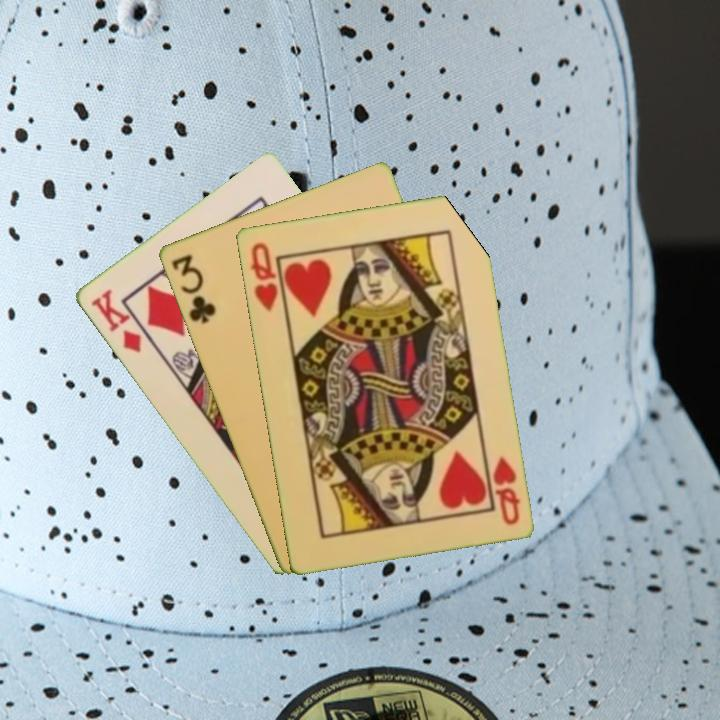3c: (167, 250, 218, 327)
Kd: (86, 285, 144, 356)
Qh: (488, 452, 523, 528), (247, 239, 280, 314)
